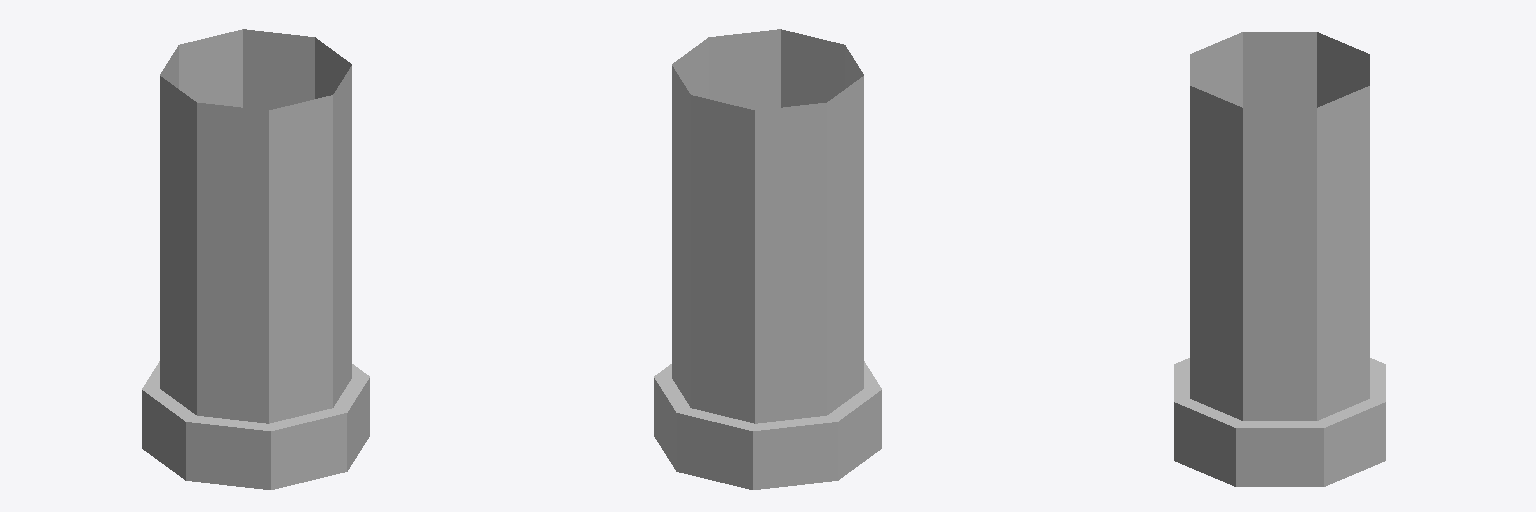
File: Pipe_end_Low.obj
The picture shows the model from 3 angles: view 1: azimuth 30°, elevation 25°; view 2: azimuth 150°, elevation 25°; view 3: azimuth 270°, elevation 25°; orthographic projection.
Parts seen in each view (by area): view 1: Pipe_end_Low; view 2: Pipe_end_Low; view 3: Pipe_end_Low.
Boxes of the visible parts, x1=… form: Pipe_end_Low: x1=142, y1=29, x2=369, y2=489; Pipe_end_Low: x1=654, y1=29, x2=881, y2=489; Pipe_end_Low: x1=1174, y1=32, x2=1385, y2=486.
Size of the model in its own units: 1.47 by 2.84 by 1.47.